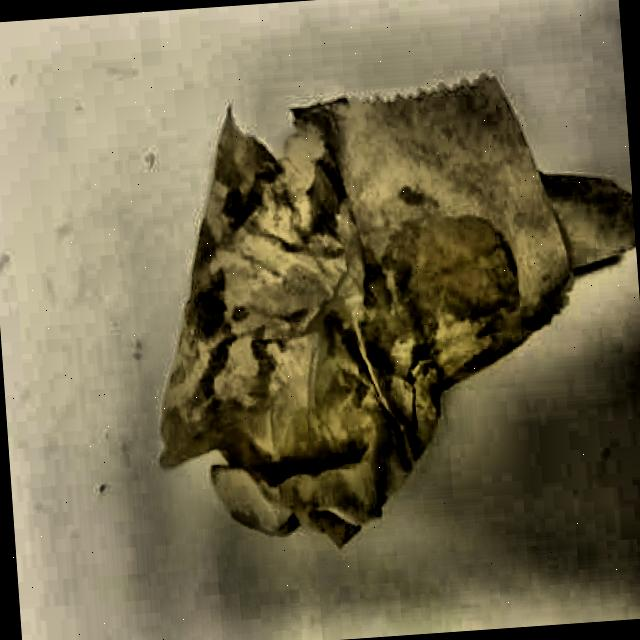trash: (184, 78, 596, 520)
